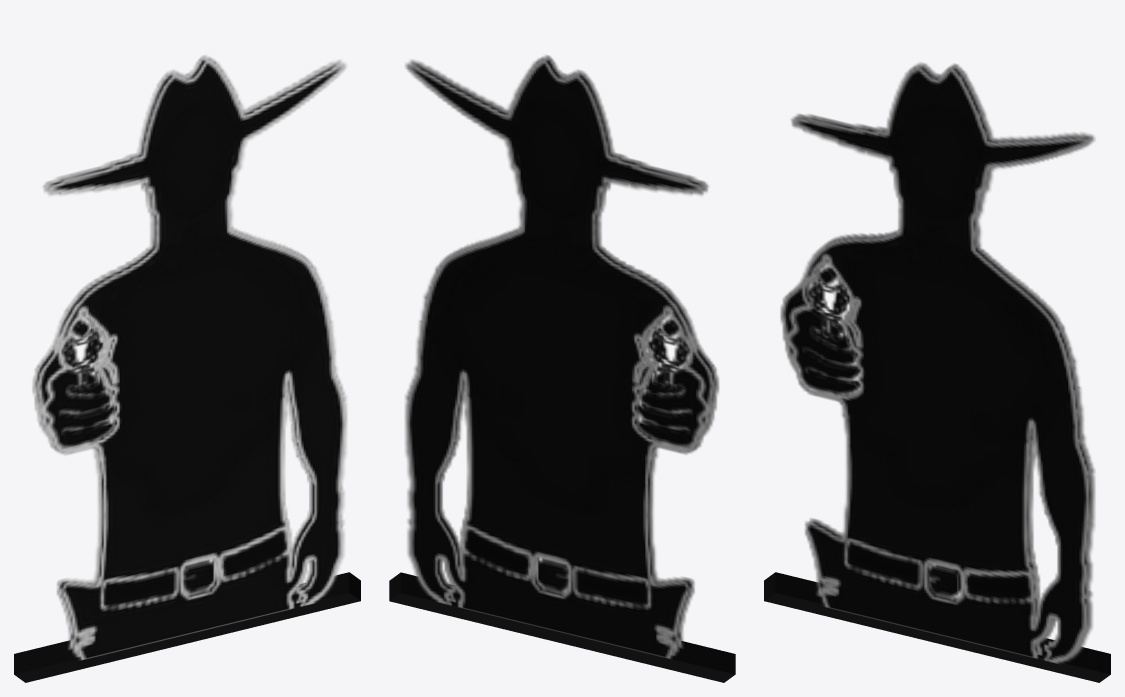
Rendered from target1.glb.
3 renders of one model, left to right at view 1: azimuth 30°, elevation 25°; view 2: azimuth 150°, elevation 25°; view 3: azimuth 330°, elevation 25°, orthographic.
Parts seen in each view (by area): view 1: target1; view 2: target1; view 3: target1.
Part boxes in pixels (x1,y1,x2,y2): target1: [14, 55, 360, 682]; target1: [389, 55, 735, 682]; target1: [764, 62, 1110, 682].
Size of what is drawn, in the model's own units: 1.05 by 1.76 by 0.0622.
Materials: 1 (1 with a texture image).
